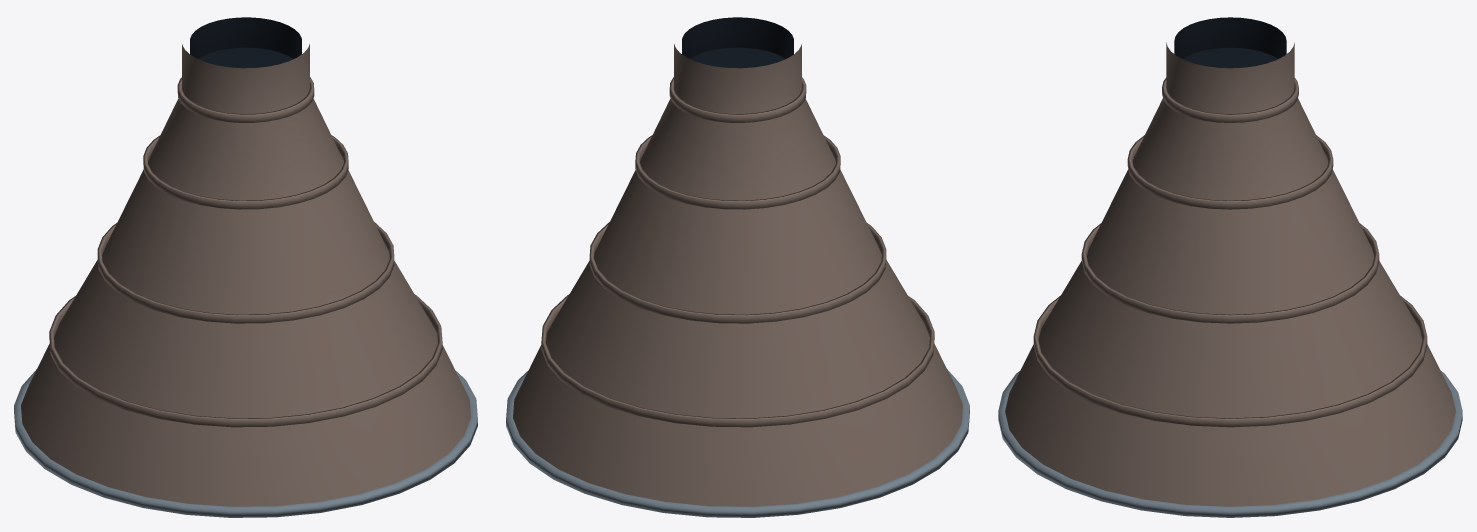
The model's file is voyager_bus.equipment_bay_01.attitude_thruster.glb.
The picture shows the model from 3 angles, left to right: view 1: azimuth 30°, elevation 25°; view 2: azimuth 150°, elevation 25°; view 3: azimuth 270°, elevation 25°; orthographic projection.
Parts seen in each view (by area): view 1: voyager_bus.equipment_bay_01.attitude_thruster.bell.mesh_Hea, voyager_bus.equipment_bay_01.attitude_thruster.bell.mesh_Mac, voyager_bus.equipment_bay_01.attitude_thruster.bell.mesh_Sha; view 2: voyager_bus.equipment_bay_01.attitude_thruster.bell.mesh_Hea, voyager_bus.equipment_bay_01.attitude_thruster.bell.mesh_Mac, voyager_bus.equipment_bay_01.attitude_thruster.bell.mesh_Sha; view 3: voyager_bus.equipment_bay_01.attitude_thruster.bell.mesh_Hea, voyager_bus.equipment_bay_01.attitude_thruster.bell.mesh_Mac, voyager_bus.equipment_bay_01.attitude_thruster.bell.mesh_Sha.
Boxes of the visible parts, x1,y1,x2,y2 form: voyager_bus.equipment_bay_01.attitude_thruster.bell.mesh_Hea: (21,44,470,506); voyager_bus.equipment_bay_01.attitude_thruster.bell.mesh_Mac: (14,369,477,517); voyager_bus.equipment_bay_01.attitude_thruster.bell.mesh_Sha: (190,17,301,68); voyager_bus.equipment_bay_01.attitude_thruster.bell.mesh_Hea: (513,44,962,506); voyager_bus.equipment_bay_01.attitude_thruster.bell.mesh_Mac: (506,369,969,517); voyager_bus.equipment_bay_01.attitude_thruster.bell.mesh_Sha: (682,17,793,68); voyager_bus.equipment_bay_01.attitude_thruster.bell.mesh_Hea: (1005,42,1455,506); voyager_bus.equipment_bay_01.attitude_thruster.bell.mesh_Mac: (998,371,1462,517); voyager_bus.equipment_bay_01.attitude_thruster.bell.mesh_Sha: (1174,17,1286,68).
Bounding box in the file's own units: 0.0789 × 0.071 × 0.0789.
